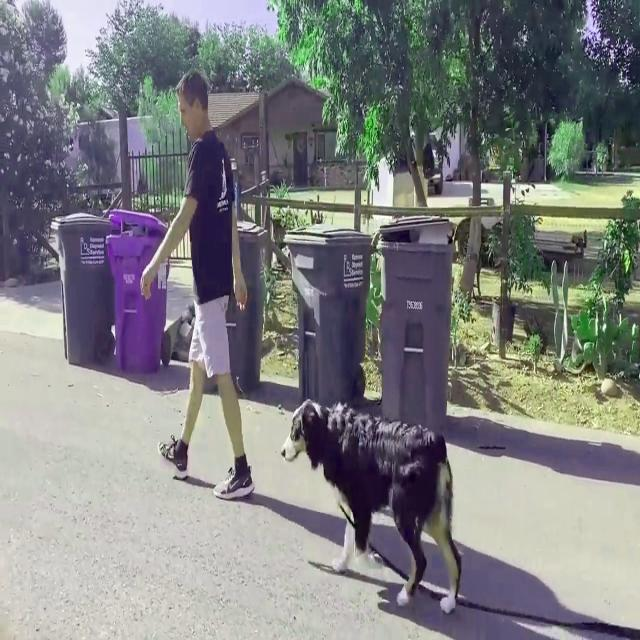Unleashed_Dog: (200, 298, 463, 614)
